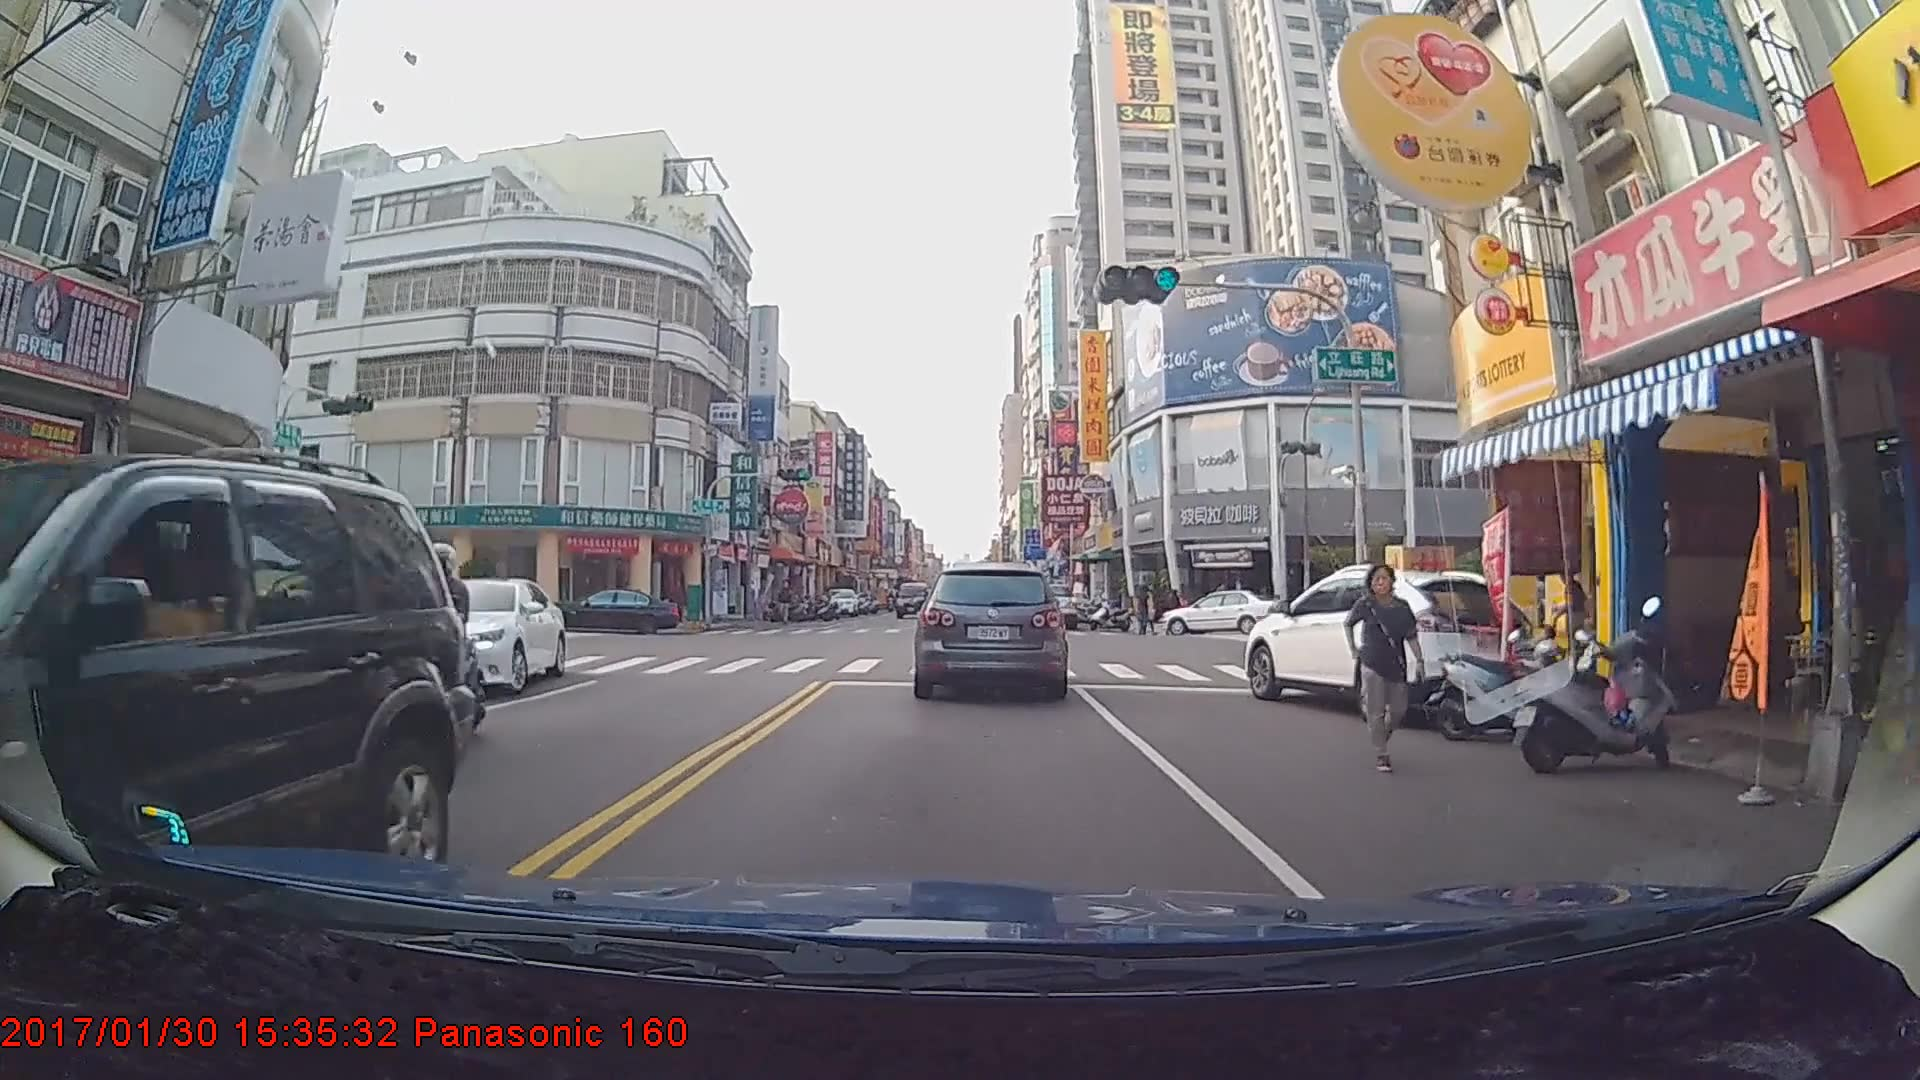pedestrian: (1350, 560, 1423, 769), (777, 580, 797, 626)
vehicle: (0, 450, 478, 979), (1243, 564, 1536, 725), (383, 574, 566, 695), (914, 561, 1065, 699), (544, 585, 683, 635), (1157, 587, 1288, 635), (893, 583, 930, 620), (819, 588, 860, 617)
